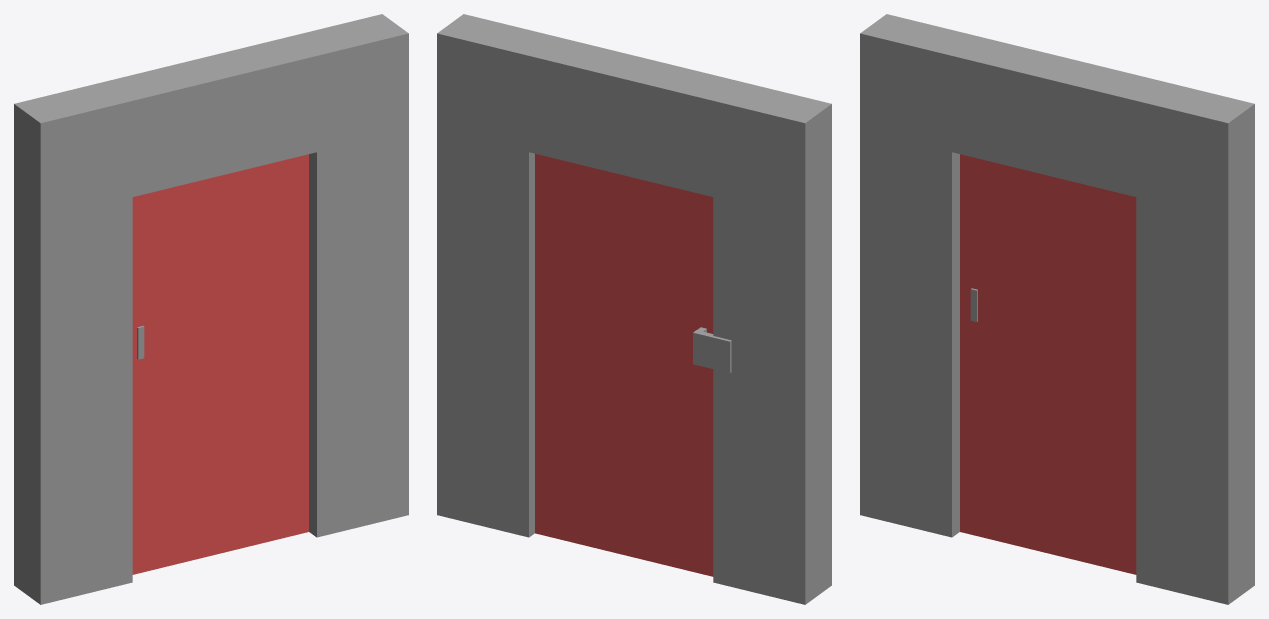
File: DoorTest2.fbx
3 renders of one model, left to right at view 1: azimuth 30°, elevation 25°; view 2: azimuth 150°, elevation 25°; view 3: azimuth 330°, elevation 25°, orthographic.
Visible parts, largest first — view 1: pCube10; view 2: pCube10; view 3: pCube10.
Boxes of the visible parts, x1=… form: pCube10: x1=14, y1=14, x2=408, y2=604; pCube10: x1=437, y1=14, x2=831, y2=604; pCube10: x1=860, y1=14, x2=1254, y2=604.
Bounding box in the file's own units: 200 × 250 × 26.68.
